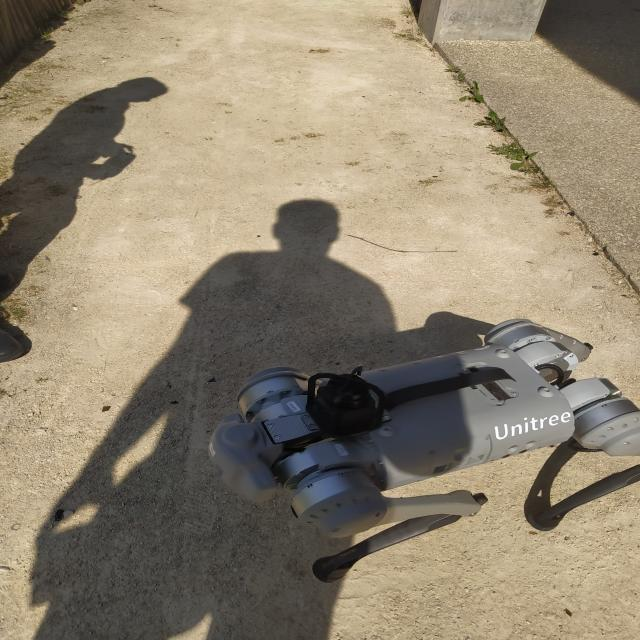unitree-go1-robot: (193, 314, 640, 592)
